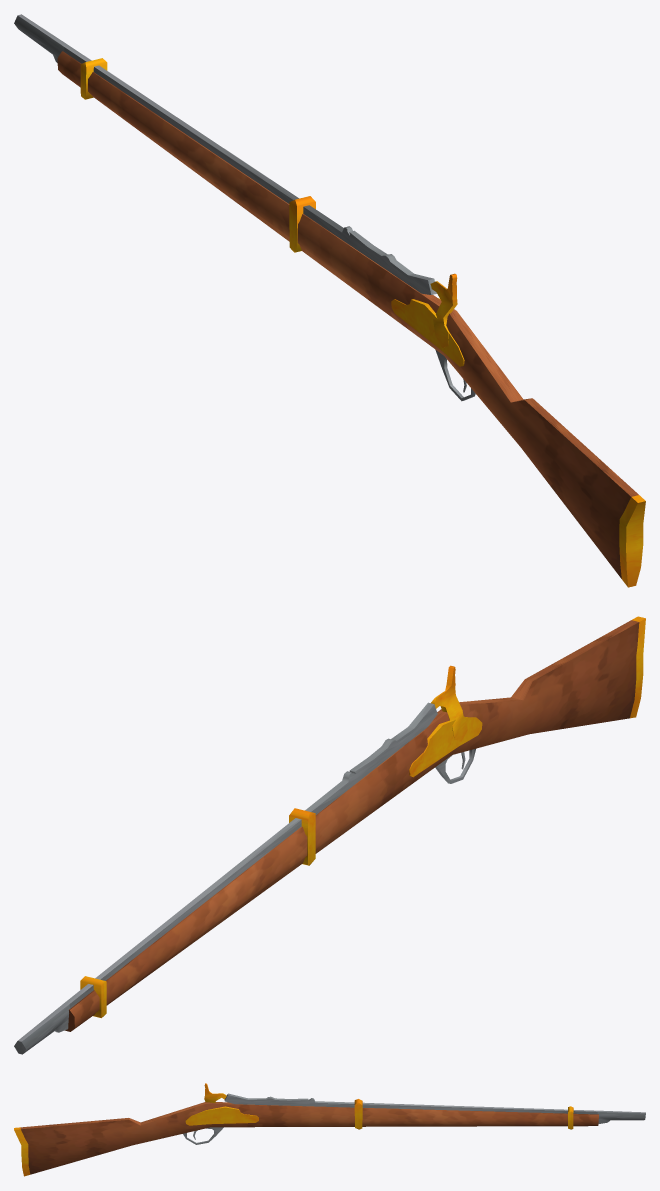
File: Sword_06.fbx
3 views of the same model, one above another, from view 1: azimuth 30°, elevation 25°; view 2: azimuth 150°, elevation 25°; view 3: azimuth 270°, elevation 25° (orthographic). The views are drawn at different scales.
Visible parts, largest first — view 1: Sword_06; view 2: Sword_06; view 3: Sword_06.
Part boxes in pixels (<box>): Sword_06: <box>14,14,645,587</box>; Sword_06: <box>14,616,645,1054</box>; Sword_06: <box>14,1083,645,1176</box>.
Size of the model in its own units: 8.68 by 71.11 by 444.
